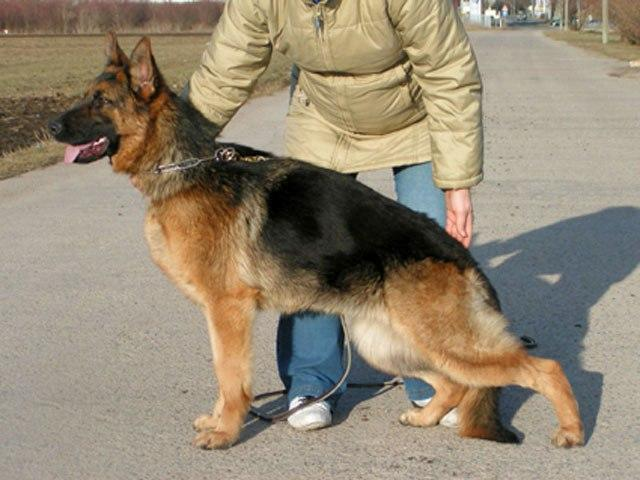German_shepherd: (45, 32, 589, 452)
